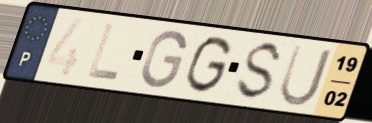4: (42, 16, 84, 80)
G: (138, 28, 189, 91), (183, 34, 234, 96)
L: (83, 21, 122, 83)
S: (233, 39, 287, 103)
U: (275, 42, 335, 109)
